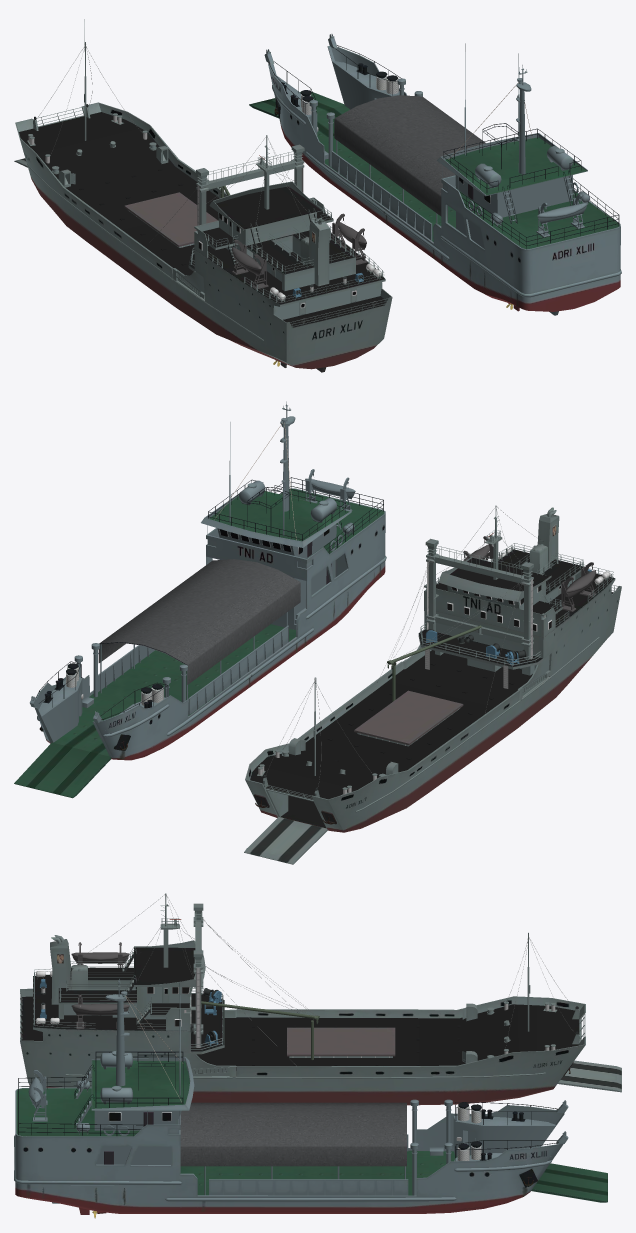
File: carrier_ships.glb
The picture shows the model from 3 angles, top to bottom: view 1: azimuth 30°, elevation 25°; view 2: azimuth 150°, elevation 25°; view 3: azimuth 270°, elevation 25°; orthographic projection.
Parts seen in each view (by area): view 1: Front Lid Door_UV Checker_0, Temporary Roof_UV Checker 3_0, Vessel_UV Checker 2_0; view 2: Temporary Roof_UV Checker 3_0, Front Lid Door_UV Checker_0, Vessel_UV Checker 2_0; view 3: Temporary Roof_UV Checker 3_0, Front Lid Door_UV Checker_0, Vessel_UV Checker 2_0.
Boxes of the visible parts, x1,y1,x2,y2 form: Front Lid Door_UV Checker_0: [14, 102, 392, 369]; Temporary Roof_UV Checker 3_0: [249, 34, 621, 315]; Vessel_UV Checker 2_0: [27, 19, 388, 372]; Temporary Roof_UV Checker 3_0: [14, 401, 386, 798]; Front Lid Door_UV Checker_0: [244, 507, 621, 864]; Vessel_UV Checker 2_0: [257, 505, 617, 799]; Temporary Roof_UV Checker 3_0: [14, 977, 607, 1218]; Front Lid Door_UV Checker_0: [20, 903, 621, 1105]; Vessel_UV Checker 2_0: [20, 893, 585, 1065].
Size of the model in its own units: 43.04 by 29.03 by 65.72.
Materials: 3 (3 with a texture image).
